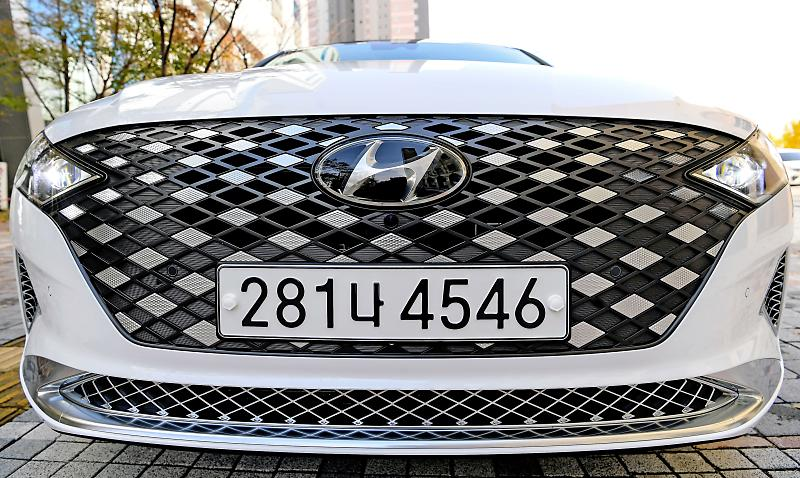car: (209, 259, 583, 349)
